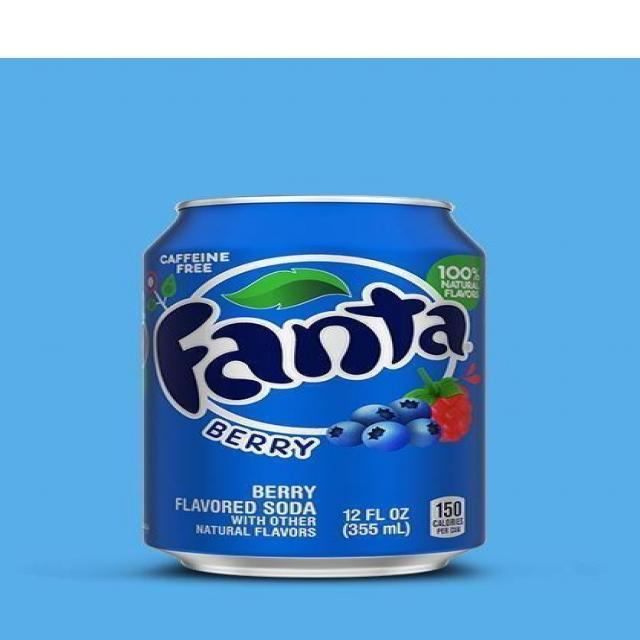tin can: (138, 192, 490, 578)
